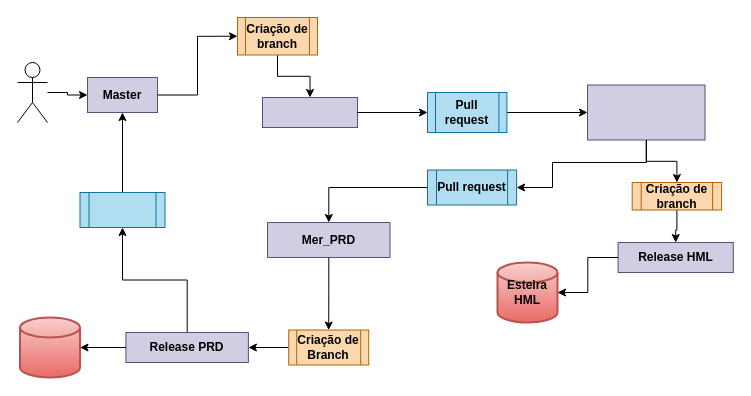
Image size: 751x396. Some labels were removed from this diagram. The shapes that lost their labels are listed below. From the top down, each one's centre as x and y in pixels, then its label:
At pixel 32 92: "Dev".
At pixel 310 112: "Branch de dev".
At pixel 645 112: "Mer_Estabilizacao.00 (HML)".
At pixel 122 210: "PR para a master".
At pixel 49 347: "Esteira PRD".
